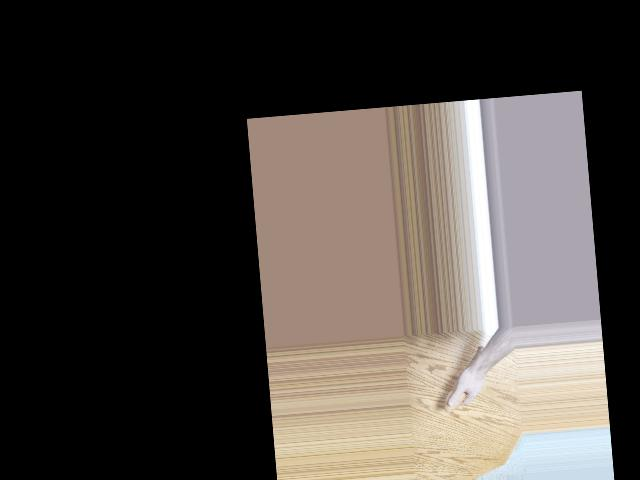sweet_potato: (439, 343, 490, 412)
